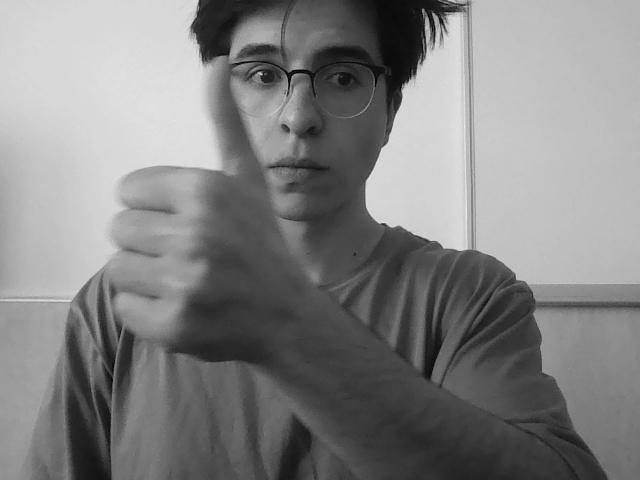good: (104, 57, 308, 361)
